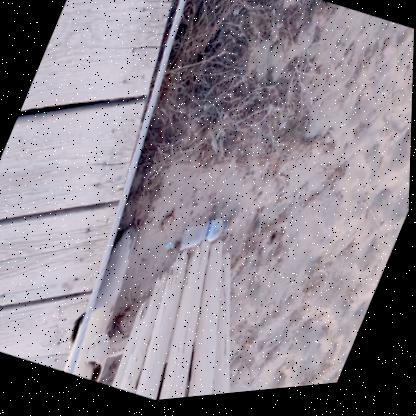Plastic: (180, 221, 229, 253)
Waste: (166, 243, 175, 252), (113, 368, 118, 376), (248, 346, 254, 350)
